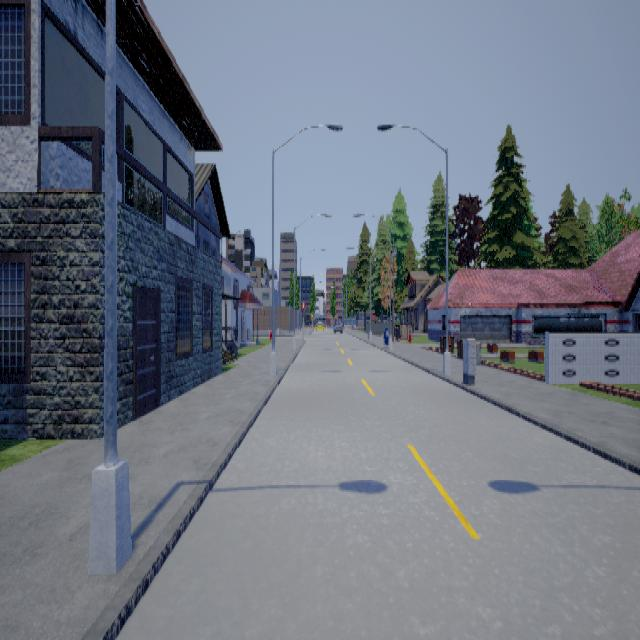red_light: (303, 302, 305, 316)
